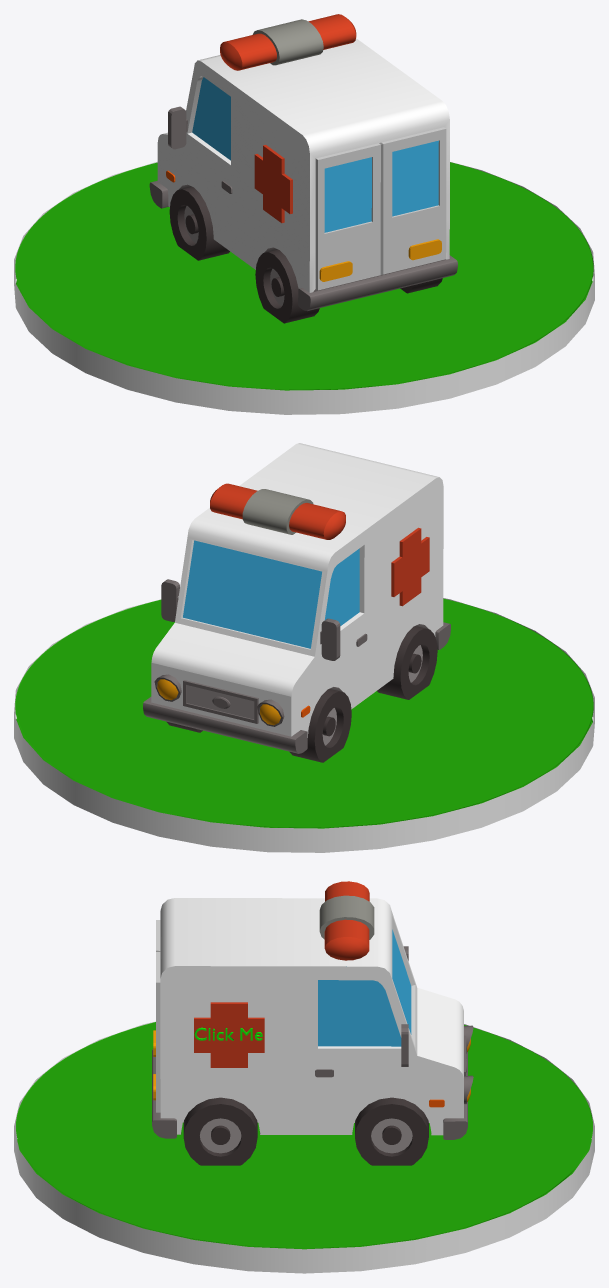
File: ambulance_mod.glb
3 renders of one model, top to bottom at view 1: azimuth 30°, elevation 25°; view 2: azimuth 150°, elevation 25°; view 3: azimuth 270°, elevation 25°, orthographic.
Parts seen in each view (by area): view 1: Cylinder, Mesh-Ambulance.2_1, Cylinder.002; view 2: Cylinder, Mesh-Ambulance.2_1, Cylinder.002; view 3: Cylinder, Mesh-Ambulance.2_1, Cylinder.002, mirror, window.
Part boxes in pixels (x1,y1,x2,y2): Cylinder: (15,162,593,390); Mesh-Ambulance.2_1: (149,14,457,323); Cylinder.002: (14,161,594,414); Cylinder: (15,598,593,828); Mesh-Ambulance.2_1: (143,443,450,762); Cylinder.002: (14,598,594,852); Cylinder: (16,1022,592,1249); Mesh-Ambulance.2_1: (152,881,473,1165); Cylinder.002: (14,1021,594,1273); mirror: (318,980,401,1046); window: (194,1004,264,1067).
Size of the model in its own units: 76.27 by 35.75 by 76.27.
4 materials, 1 textured.
